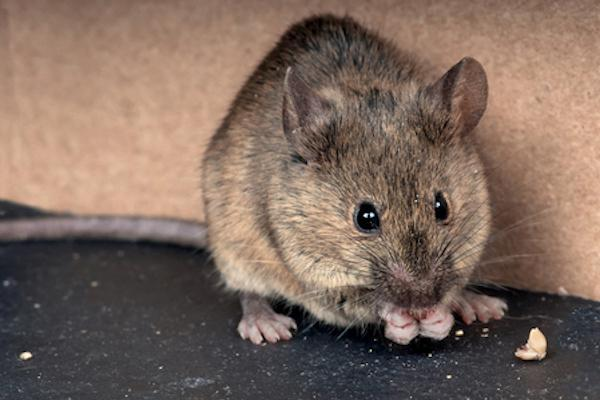rat: (0, 14, 506, 344)
